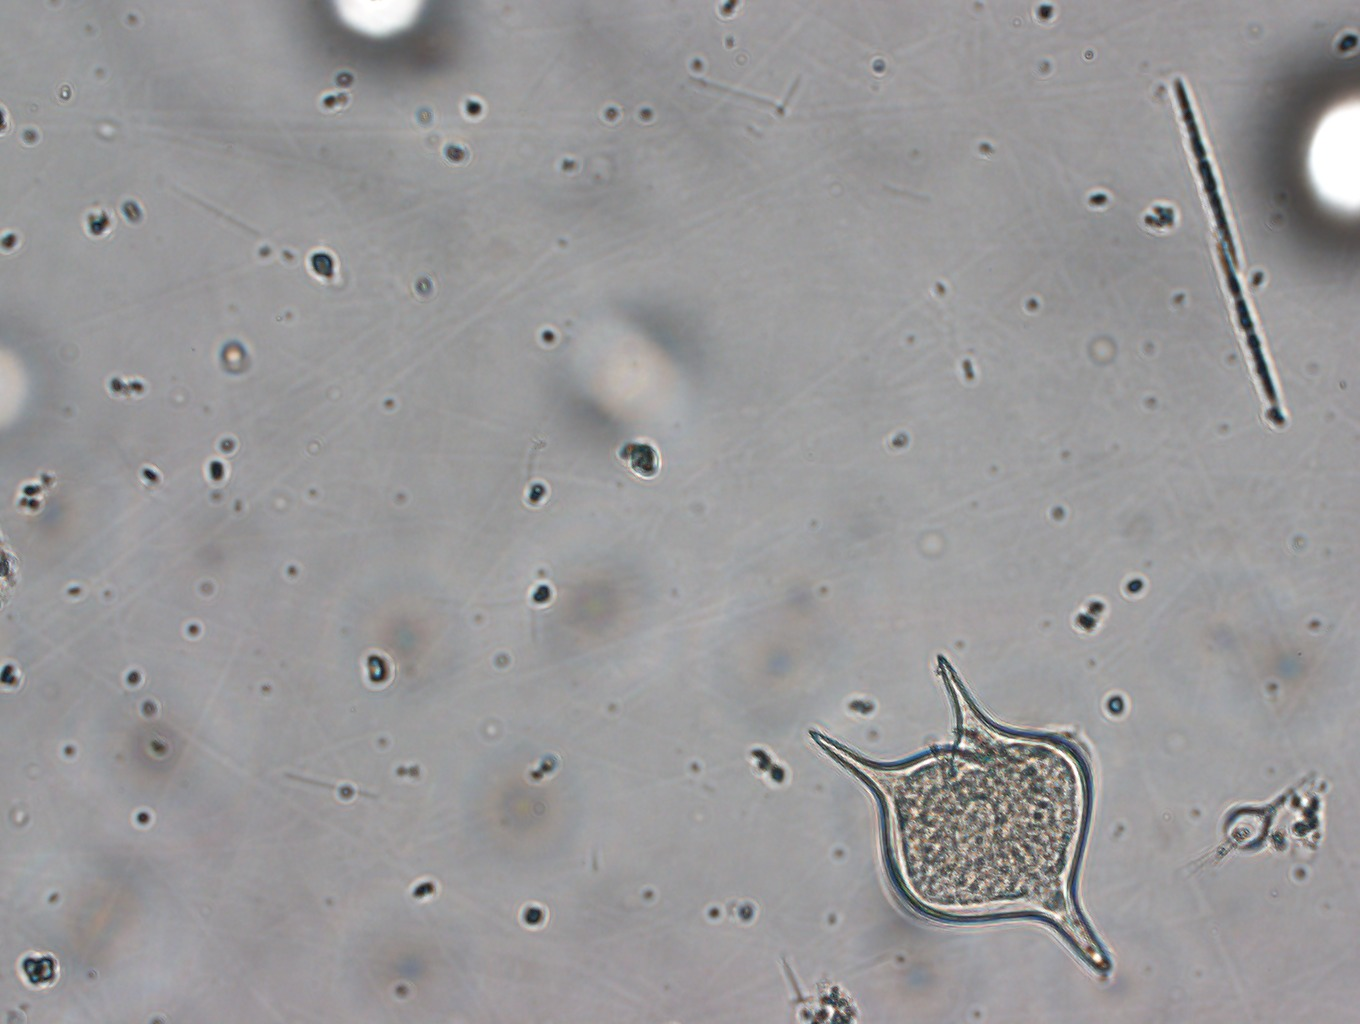ceratium furca: (814, 650, 1130, 981)
